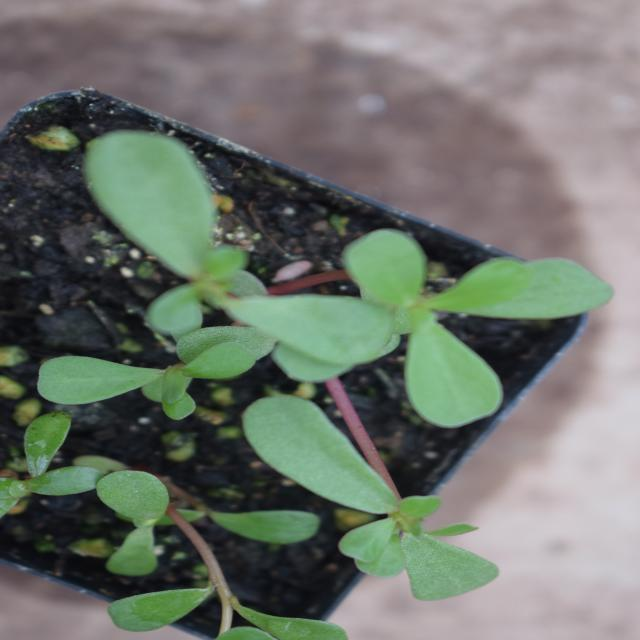purslane: (126, 28, 445, 555)
